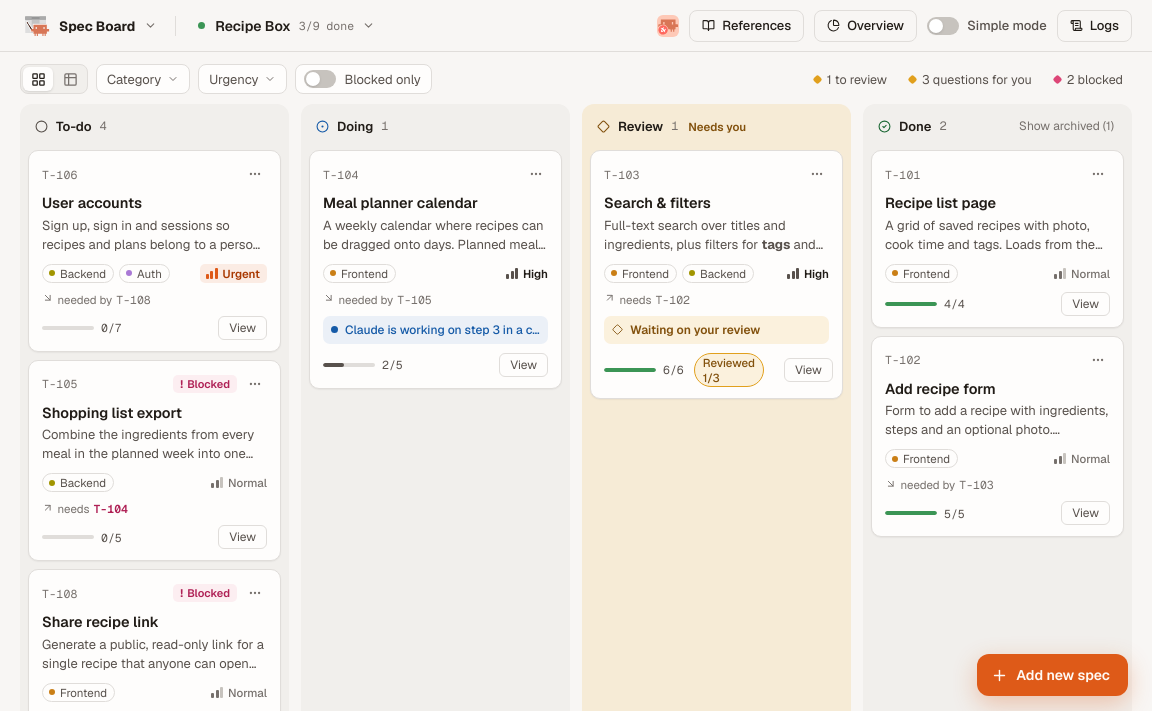
Test: Sync from the Overview’s out-of-sync box › not connected: the same command dialog as the menu’s Sync, and nothing starts
The image size is (1152, 711).
Click the button "Overview" at {"x": 866, "y": 26}, box [814,10,917,42]
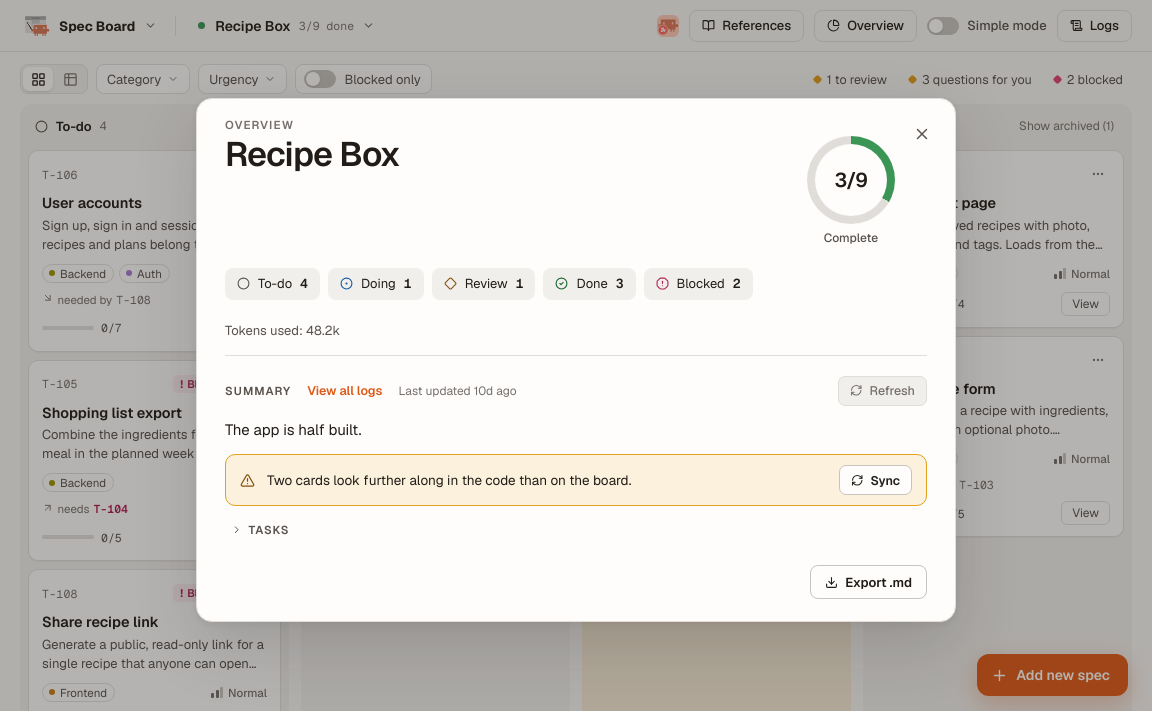
Click the button "Sync" at {"x": 875, "y": 480}, box [839,465,912,495]
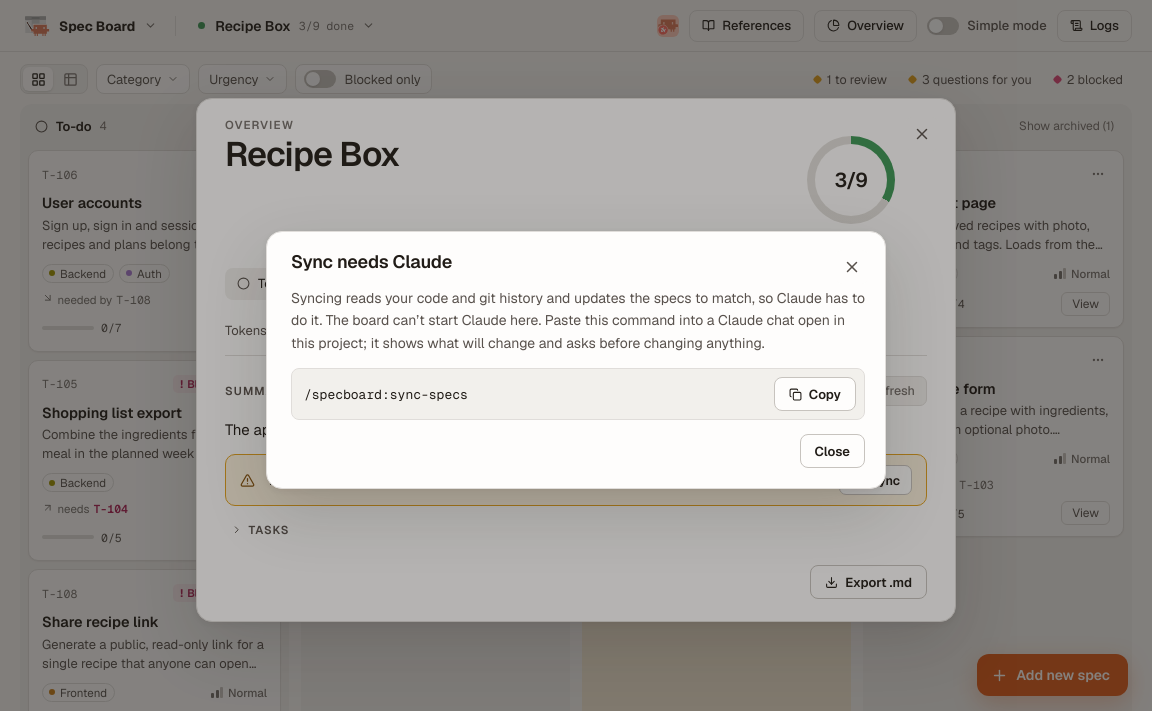
Expected: the heading "Sync needs Claude" is shown, [291,250,452,273]
Expected: the text "/specboard:sync-specs" is shown, [304,386,468,403]
